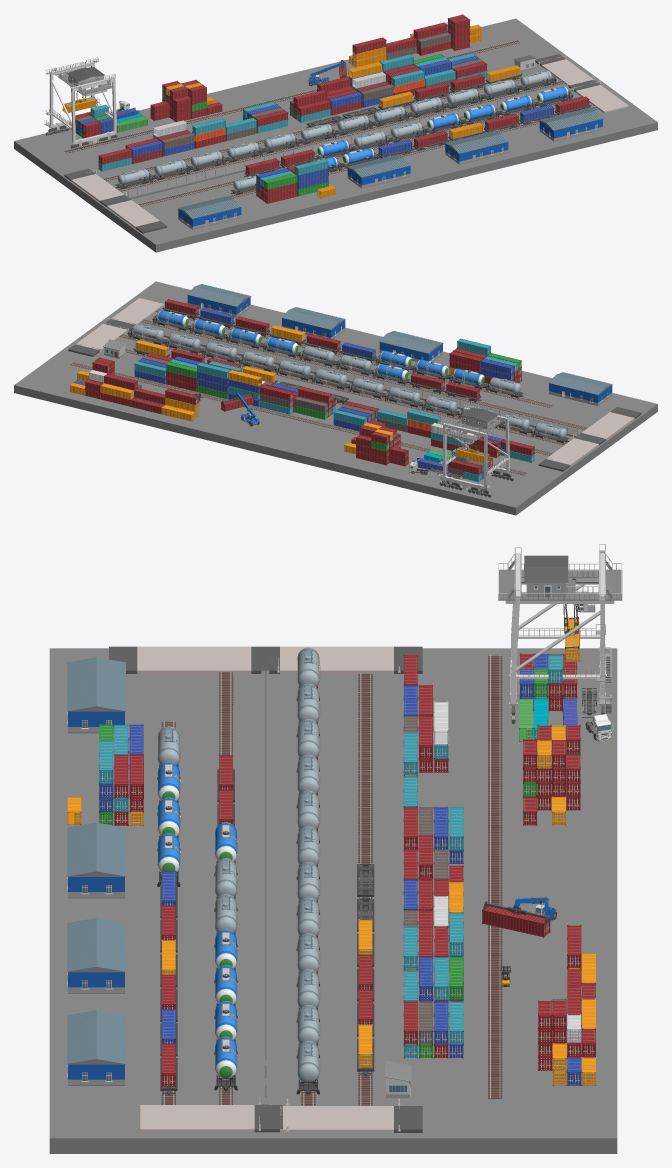
Rendered from port.glb.
3 renders of one model, top to bottom at view 1: azimuth 30°, elevation 25°; view 2: azimuth 150°, elevation 25°; view 3: azimuth 270°, elevation 25°, orthographic. The views are drawn at different scales.
Parts seen in each view (by area): view 1: TransportHub_Railway_Wall_04, TransportHub_Railway_Container_01, TransportHub_Railway_Tank_03, TransportHub_Railway_Container_03, TransportHub_Railway_Tank_01, TransportHub_Railway_Tank_02, TransportHub_Railway_Port_Crane_01, TransportHub_Railway_Container_02, TransportHub_Railway_Container_06, TransportHub_Railway_Tank_04, TransportHub_Railway_Wall_02, TransportHub_Railway_Container_04 (+13 smaller); view 2: TransportHub_Railway_Wall_04, TransportHub_Railway_Container_01, TransportHub_Railway_Tank_03, TransportHub_Railway_Tank_02, TransportHub_Railway_Tank_01, TransportHub_Railway_Container_03, TransportHub_Railway_Container_02, TransportHub_Railway_Port_Crane_01, TransportHub_Railway_Wall_02, TransportHub_Railway_Container_06, TransportHub_Railway_Container_04, TransportHub_Railway_Wall_03 (+12 smaller); view 3: TransportHub_Railway_Wall_04, TransportHub_Railway_Container_01, TransportHub_Railway_Tank_03, TransportHub_Railway_Port_Crane_01, TransportHub_Railway_Wall_03, TransportHub_Railway_Wall_02, TransportHub_Railway_Tank_02, TransportHub_Railway_Tank_01, TransportHub_Railway_Container_03, TransportHub_Railway_Container_02, TransportHub_Railway_Track_04, TransportHub_Railway_Container_04 (+13 smaller).
Boxes of the visible parts, x1=… form: TransportHub_Railway_Wall_04: x1=14, y1=18, x2=657, y2=252; TransportHub_Railway_Container_01: x1=289, y1=53, x2=487, y2=122; TransportHub_Railway_Tank_03: x1=115, y1=70, x2=556, y2=190; TransportHub_Railway_Container_03: x1=98, y1=101, x2=288, y2=171; TransportHub_Railway_Tank_01: x1=244, y1=86, x2=573, y2=177; TransportHub_Railway_Tank_02: x1=231, y1=96, x2=591, y2=196; TransportHub_Railway_Port_Crane_01: x1=44, y1=57, x2=119, y2=151; TransportHub_Railway_Container_02: x1=349, y1=14, x2=481, y2=67; TransportHub_Railway_Container_06: x1=256, y1=158, x2=336, y2=203; TransportHub_Railway_Tank_04: x1=306, y1=65, x2=522, y2=127; TransportHub_Railway_Wall_02: x1=64, y1=168, x2=167, y2=233; TransportHub_Railway_Container_04: x1=150, y1=80, x2=222, y2=121; TransportHub_Railway_Wall_04: x1=14, y1=281, x2=657, y2=515; TransportHub_Railway_Container_01: x1=134, y1=352, x2=335, y2=419; TransportHub_Railway_Tank_03: x1=127, y1=324, x2=569, y2=443; TransportHub_Railway_Tank_02: x1=162, y1=299, x2=523, y2=398; TransportHub_Railway_Tank_01: x1=152, y1=310, x2=481, y2=402; TransportHub_Railway_Container_03: x1=333, y1=401, x2=534, y2=462; TransportHub_Railway_Container_02: x1=69, y1=357, x2=198, y2=421; TransportHub_Railway_Port_Crane_01: x1=437, y1=404, x2=513, y2=497; TransportHub_Railway_Wall_02: x1=538, y1=407, x2=641, y2=471; TransportHub_Railway_Container_06: x1=449, y1=338, x2=521, y2=383; TransportHub_Railway_Container_04: x1=344, y1=419, x2=408, y2=466; TransportHub_Railway_Wall_03: x1=68, y1=298, x2=164, y2=356; TransportHub_Railway_Wall_04: x1=49, y1=648, x2=617, y2=1153; TransportHub_Railway_Container_01: x1=403, y1=835, x2=463, y2=1058; TransportHub_Railway_Tank_03: x1=296, y1=647, x2=320, y2=1096; TransportHub_Railway_Port_Crane_01: x1=498, y1=544, x2=622, y2=724; TransportHub_Railway_Wall_03: x1=140, y1=1098, x2=422, y2=1132; TransportHub_Railway_Wall_02: x1=109, y1=646, x2=422, y2=673; TransportHub_Railway_Tank_02: x1=157, y1=726, x2=180, y2=1094; TransportHub_Railway_Tank_01: x1=214, y1=755, x2=237, y2=1091; TransportHub_Railway_Container_03: x1=403, y1=654, x2=463, y2=863; TransportHub_Railway_Container_02: x1=538, y1=925, x2=595, y2=1085; TransportHub_Railway_Track_04: x1=488, y1=654, x2=502, y2=1098; TransportHub_Railway_Container_04: x1=523, y1=725, x2=580, y2=825.
Size of the model in its own units: 203 by 29.37 by 100.
Materials: 4 (4 with a texture image).
